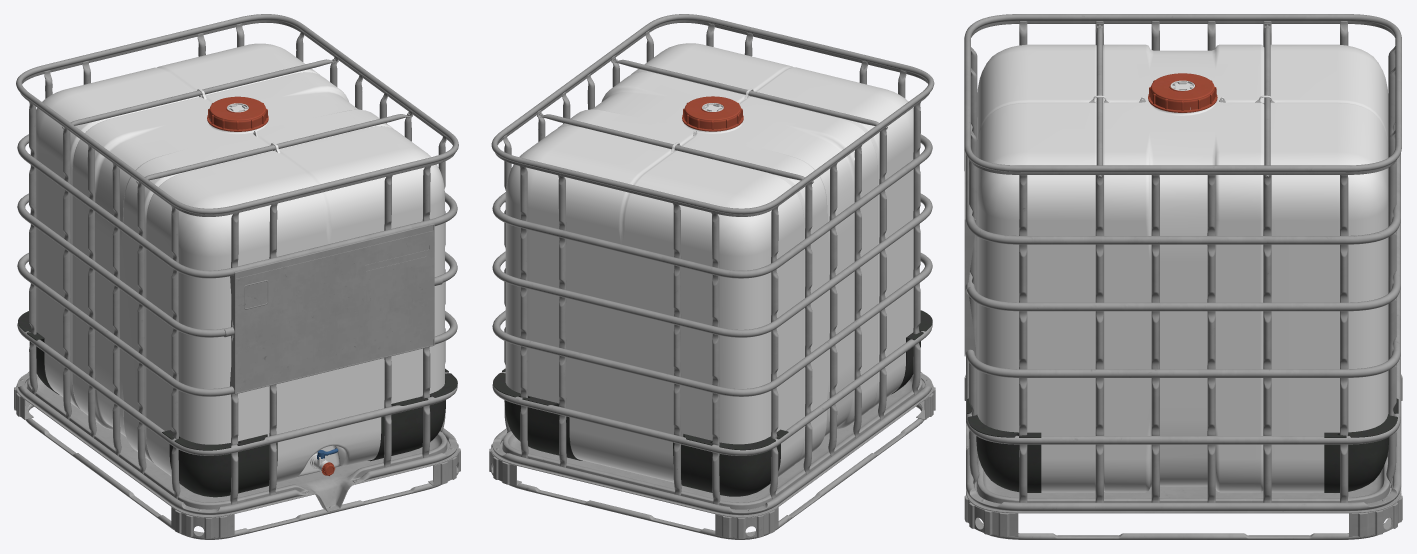
The model's file is ibcTank_a02.glb.
The picture shows the model from 3 angles, left to right: view 1: azimuth 30°, elevation 25°; view 2: azimuth 150°, elevation 25°; view 3: azimuth 270°, elevation 25°; orthographic projection. The views are drawn at different scales.
Visible parts, largest first — view 1: sm_ibcTank_a02_mesh_00; view 2: sm_ibcTank_a02_mesh_00; view 3: sm_ibcTank_a02_mesh_00.
Part boxes in pixels (bbox=[...]): sm_ibcTank_a02_mesh_00: bbox=[14, 14, 460, 539]; sm_ibcTank_a02_mesh_00: bbox=[489, 14, 935, 539]; sm_ibcTank_a02_mesh_00: bbox=[964, 14, 1402, 539].
Size of the model in its own units: 1.05 by 1.2 by 1.26.
Materials: 5 (4 with a texture image).
